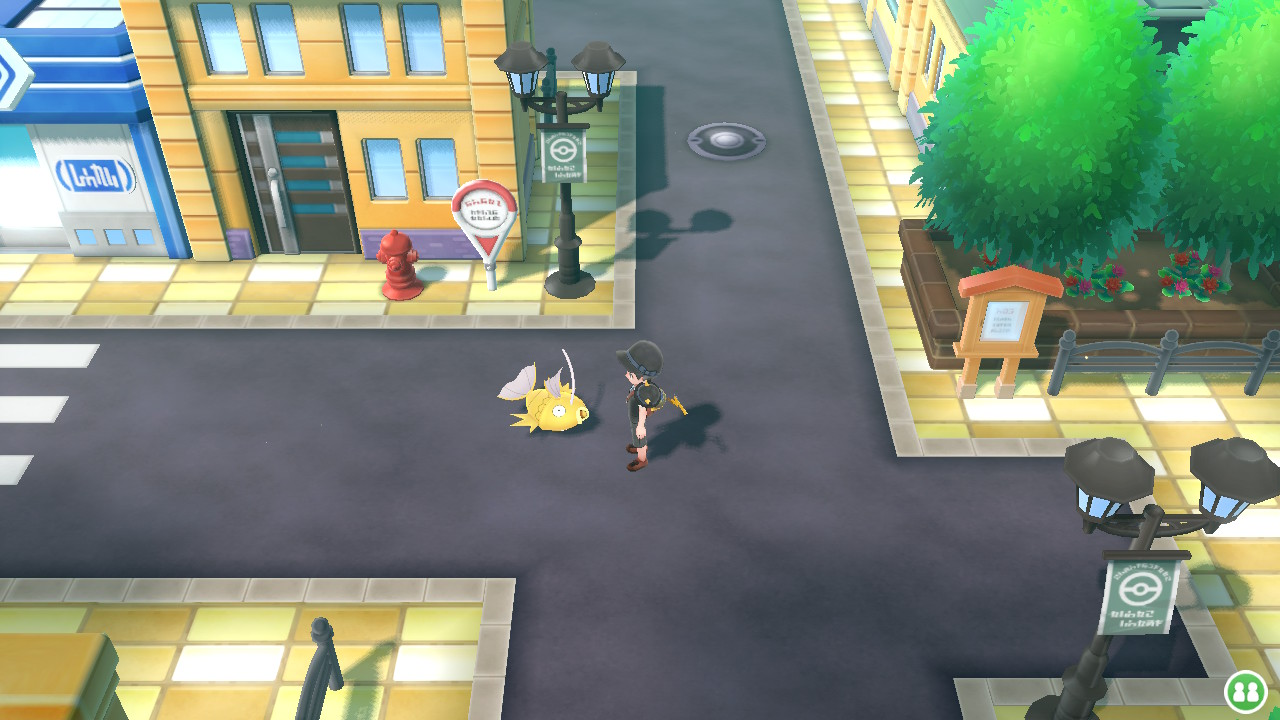Golden: (496, 357, 590, 432)
